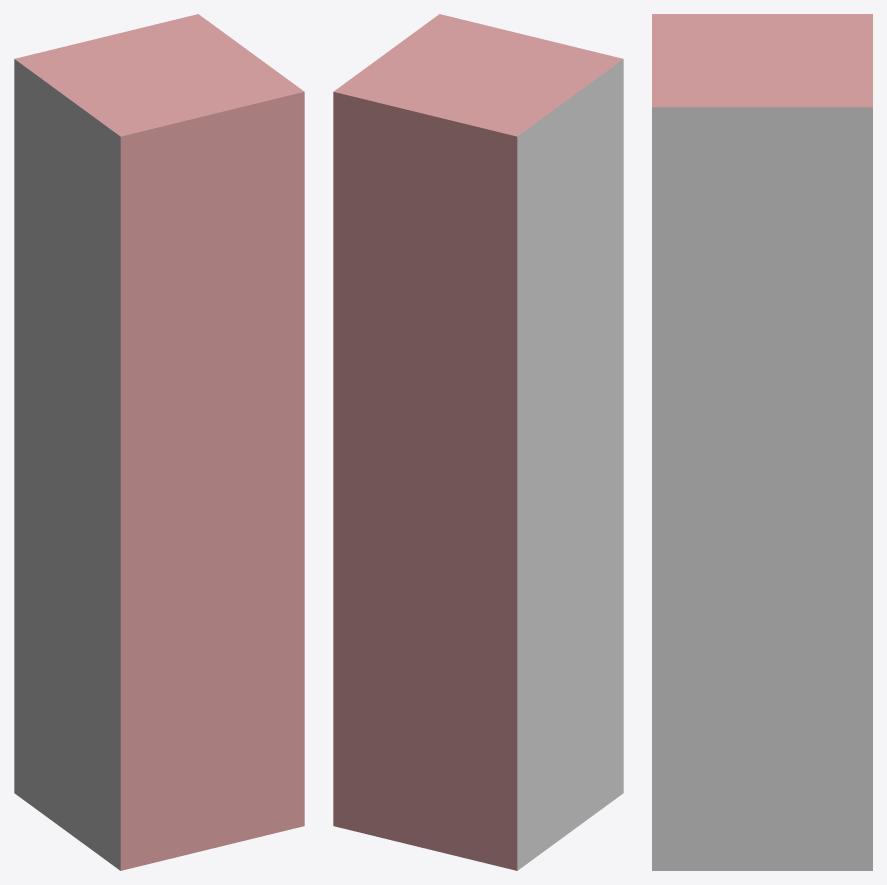
3 views of the same model, side by side, from view 1: azimuth 30°, elevation 25°; view 2: azimuth 150°, elevation 25°; view 3: azimuth 270°, elevation 25° (orthographic). The views are drawn at different scales.
Visible parts, largest first — view 1: Cube; view 2: Cube; view 3: Cube.
Boxes of the visible parts, x1,y1,x2,y2 form: Cube: [14, 14, 304, 870]; Cube: [333, 14, 623, 870]; Cube: [652, 14, 872, 870].
Size of the model in its own units: 200 by 763 by 200.
